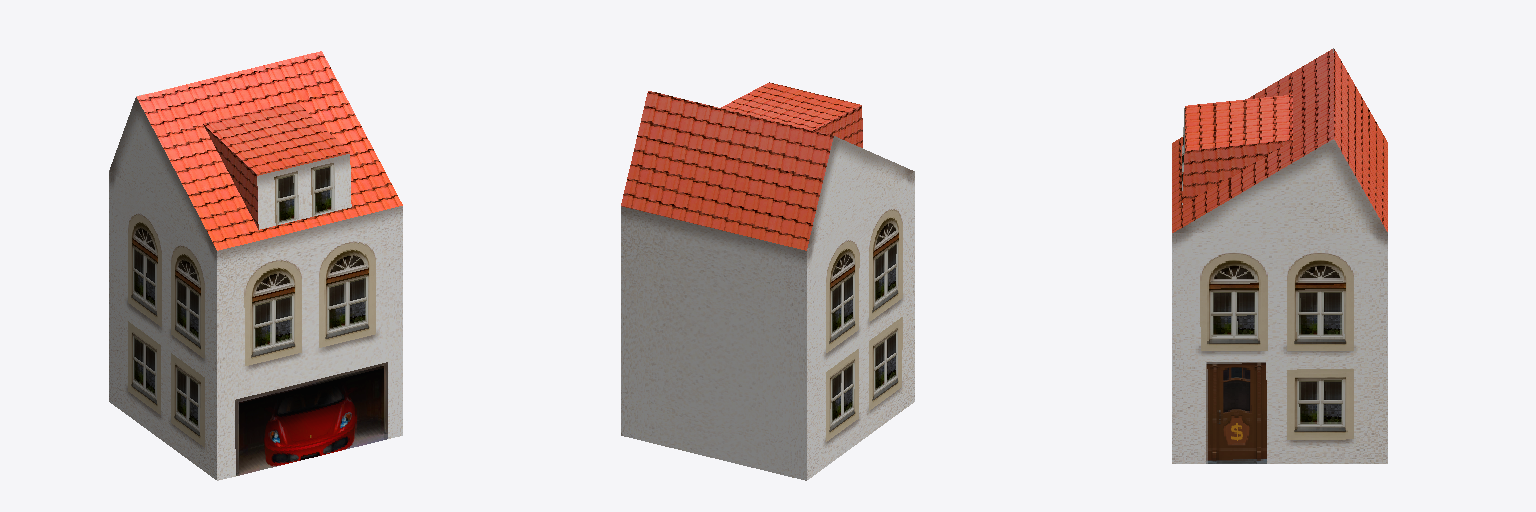
The picture shows the model from 3 angles: view 1: azimuth 30°, elevation 25°; view 2: azimuth 150°, elevation 25°; view 3: azimuth 270°, elevation 25°; orthographic projection.
Visible parts, largest first — view 1: house_03; view 2: house_03; view 3: house_03.
Boxes of the visible parts, box(x1,y1,x2,y2) form: house_03: box(109, 51, 402, 480); house_03: box(621, 82, 914, 480); house_03: box(1172, 48, 1387, 463).
Size of the model in its own units: 2 by 3.34 by 2.02.
1 materials, 1 textured.